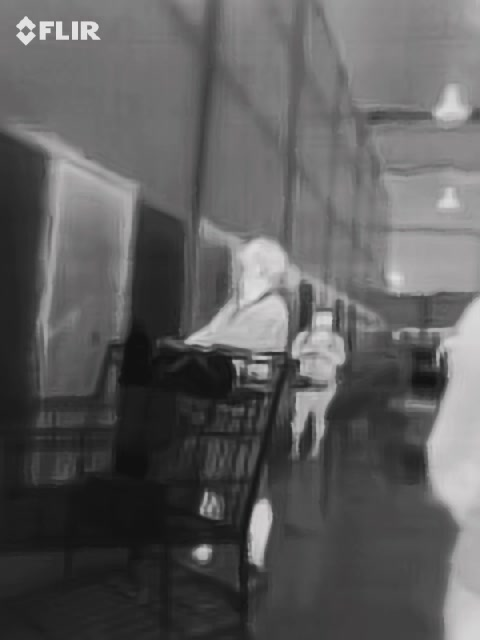head: (234, 238, 286, 297)
